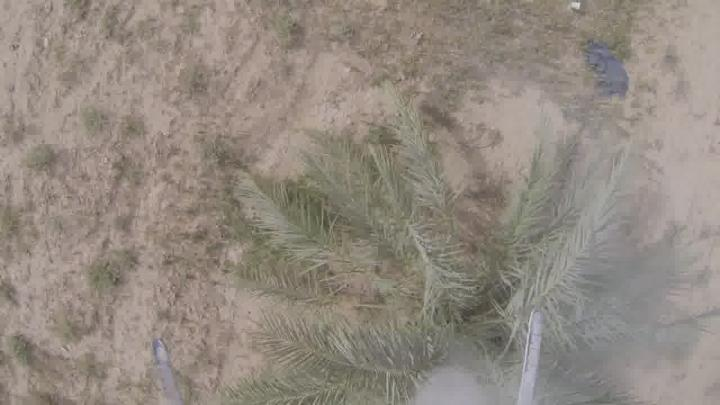Date-Palm-Crown: (326, 203, 604, 405)
